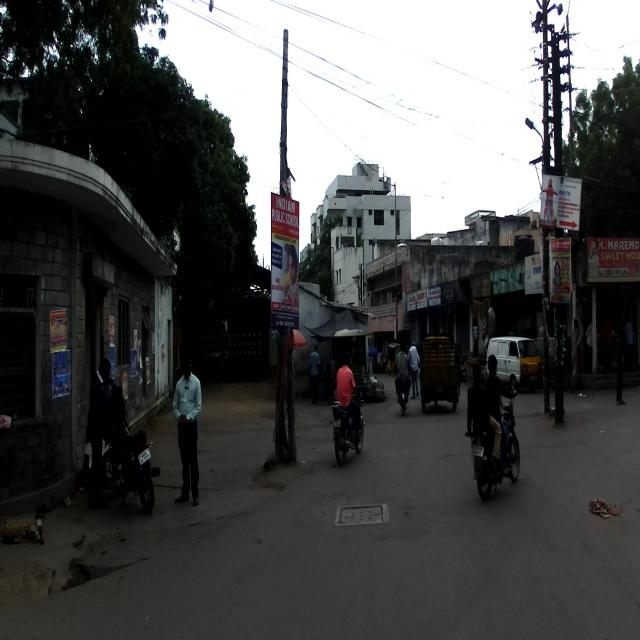car: (486, 337, 544, 392)
motorcycle: (96, 384, 162, 514), (470, 389, 522, 500), (329, 385, 365, 467)
